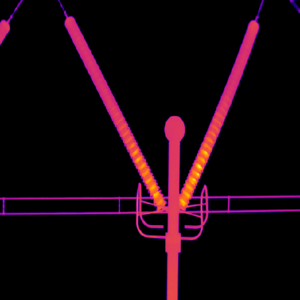insulator: (64, 13, 164, 209), (177, 16, 259, 207)
